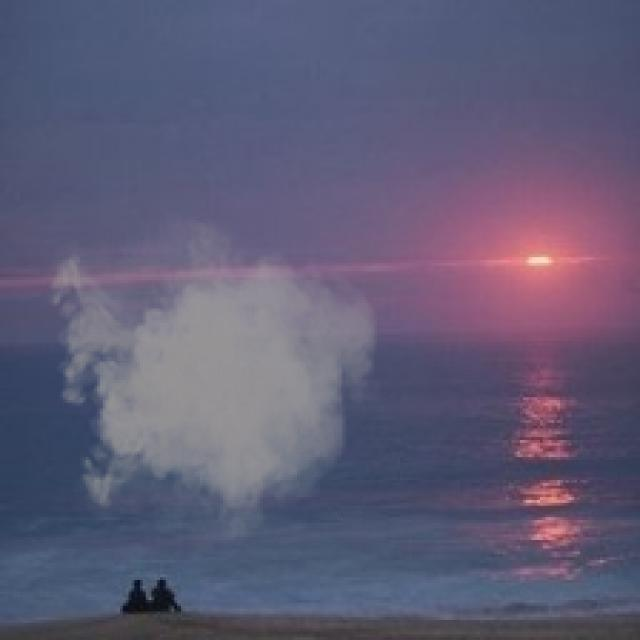Smoke: (40, 203, 383, 560)
